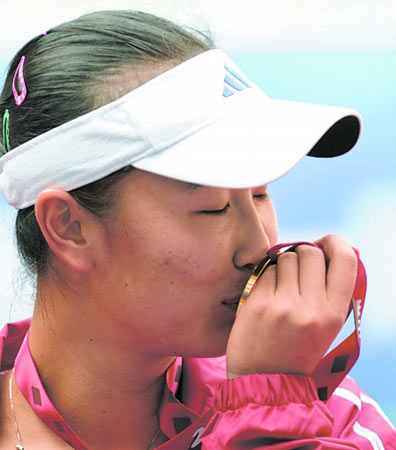face: (98, 97, 276, 363)
